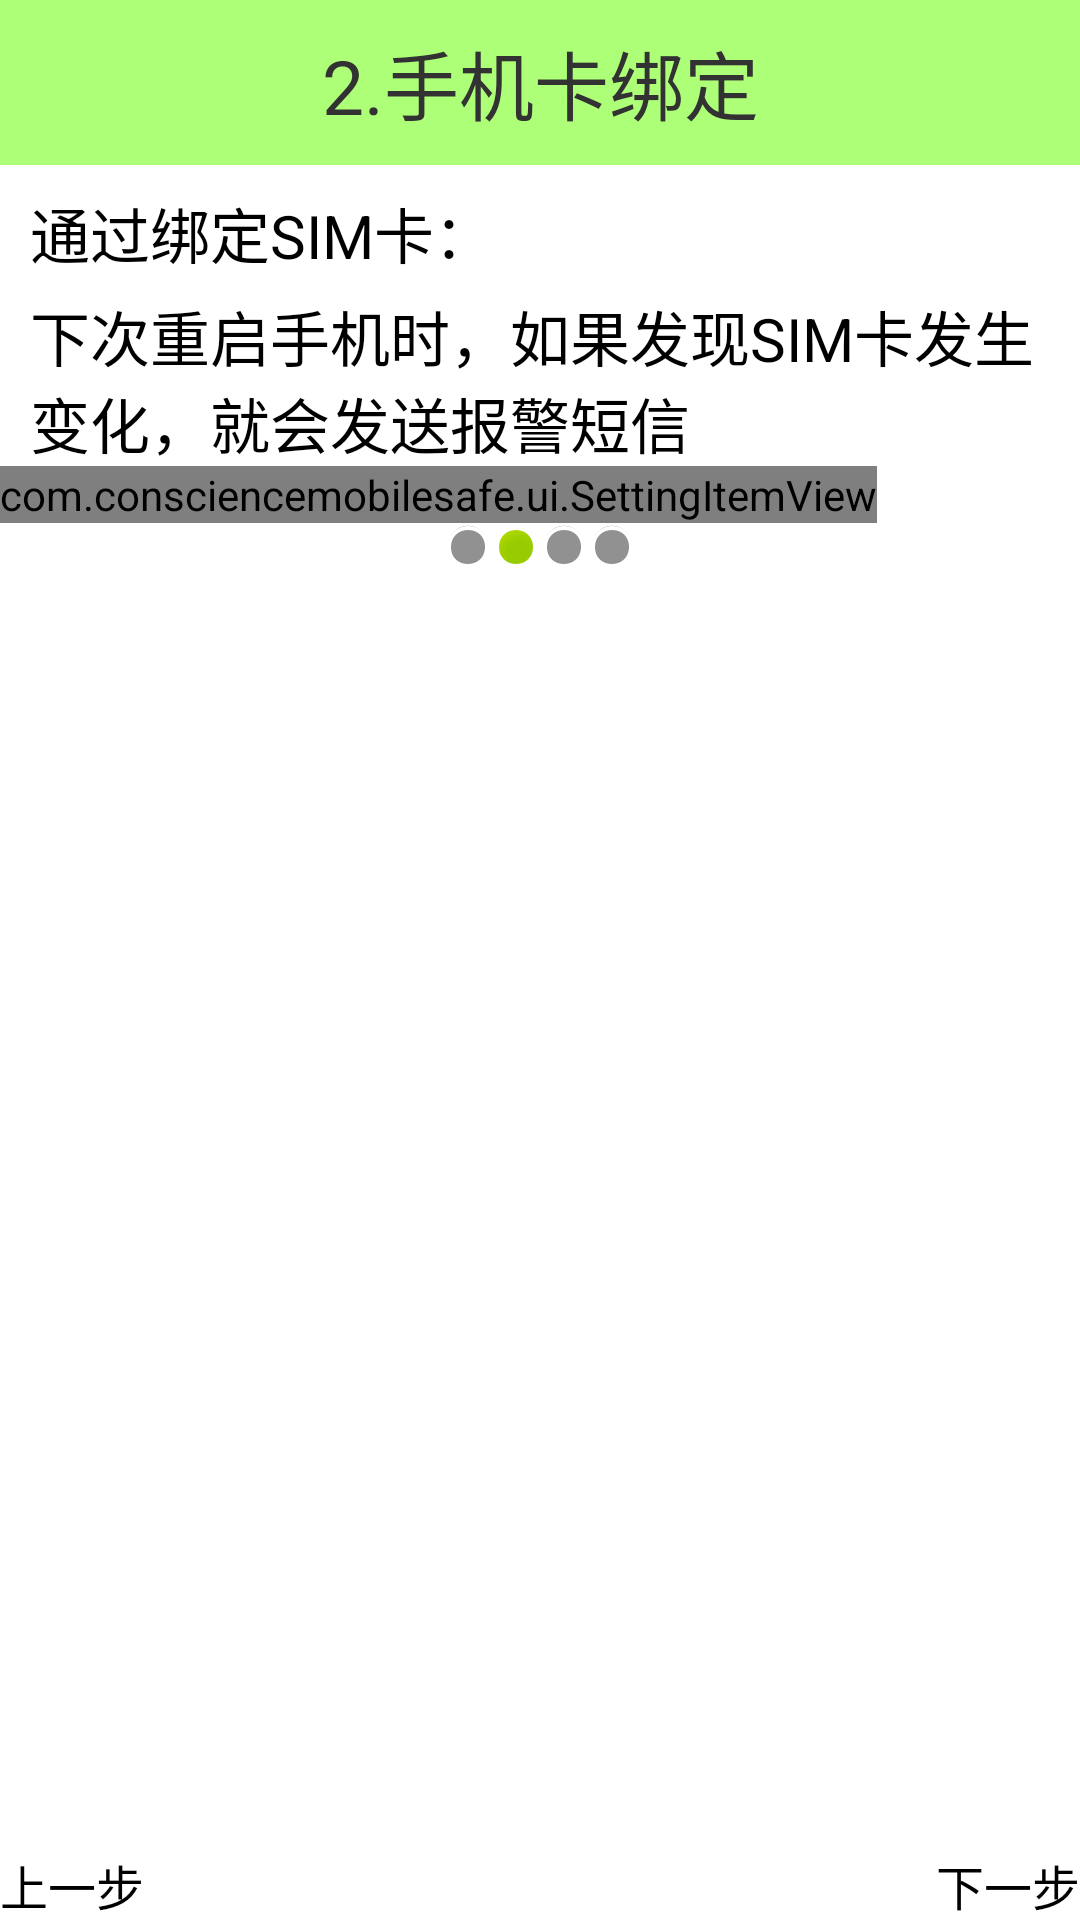

Icons on this 1080x1920 Android screen, each with the point to tap as (x,y):
presence invisible: (468,545), (564,545), (612,545)
presence online: (516,547)
